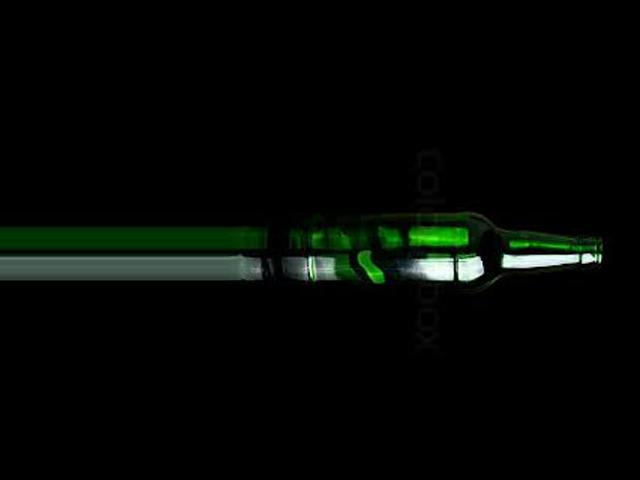beer: (306, 211, 601, 282)
